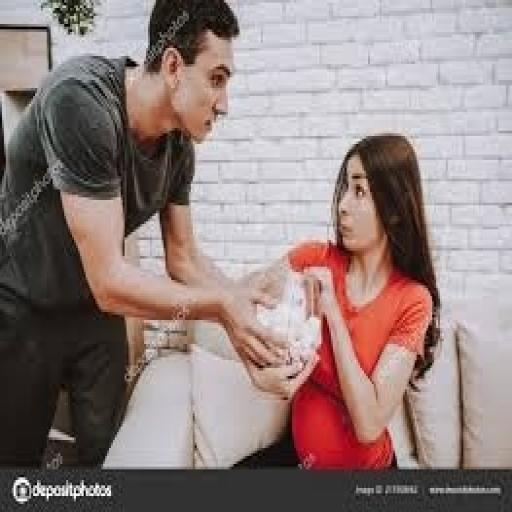sitting: (0, 0, 303, 469), (99, 128, 442, 469), (271, 128, 442, 469)
